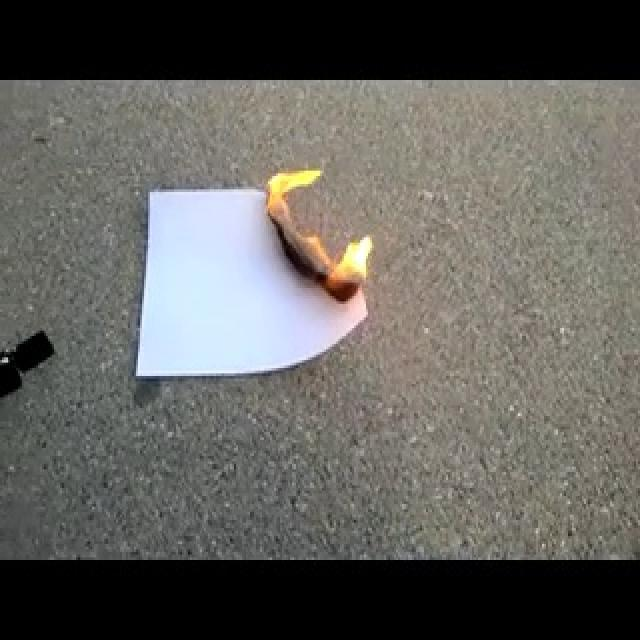fire: (289, 154, 421, 320)
